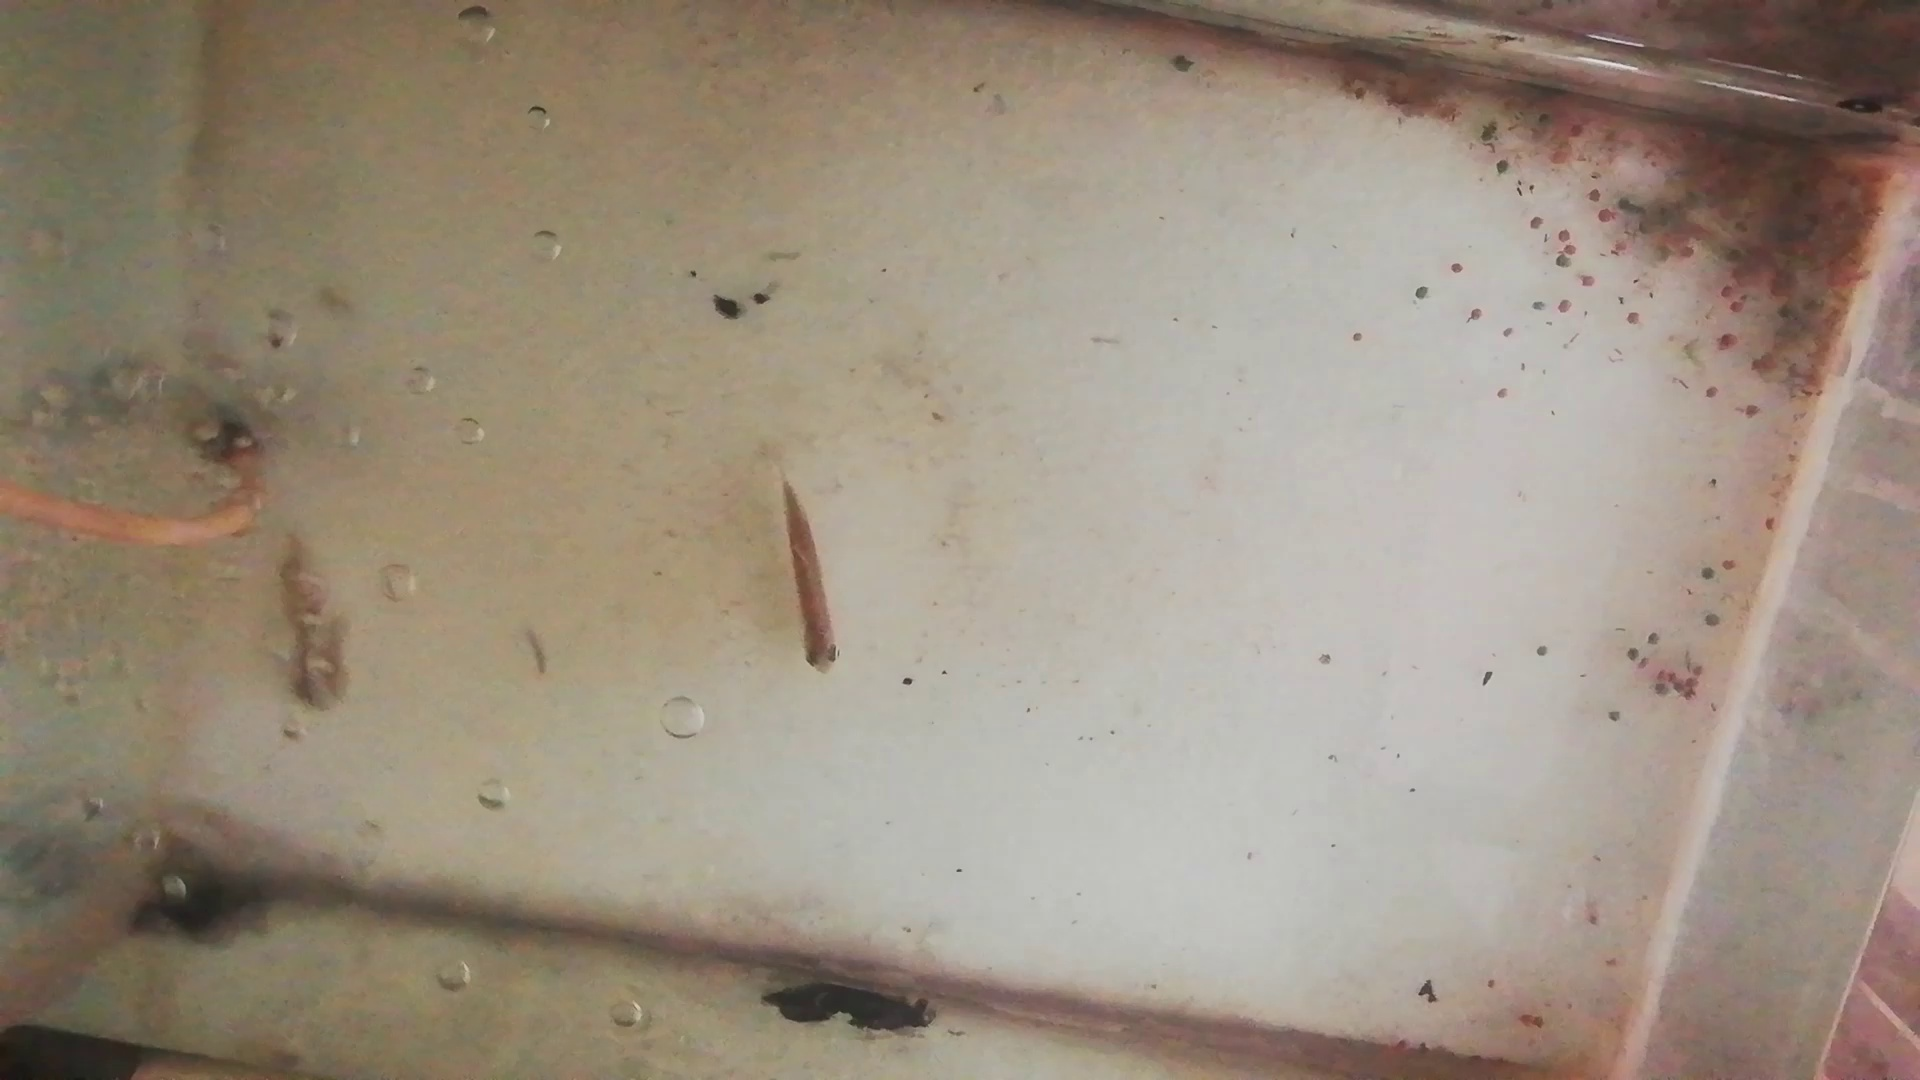fish: (269, 522, 355, 717), (774, 475, 851, 679)
